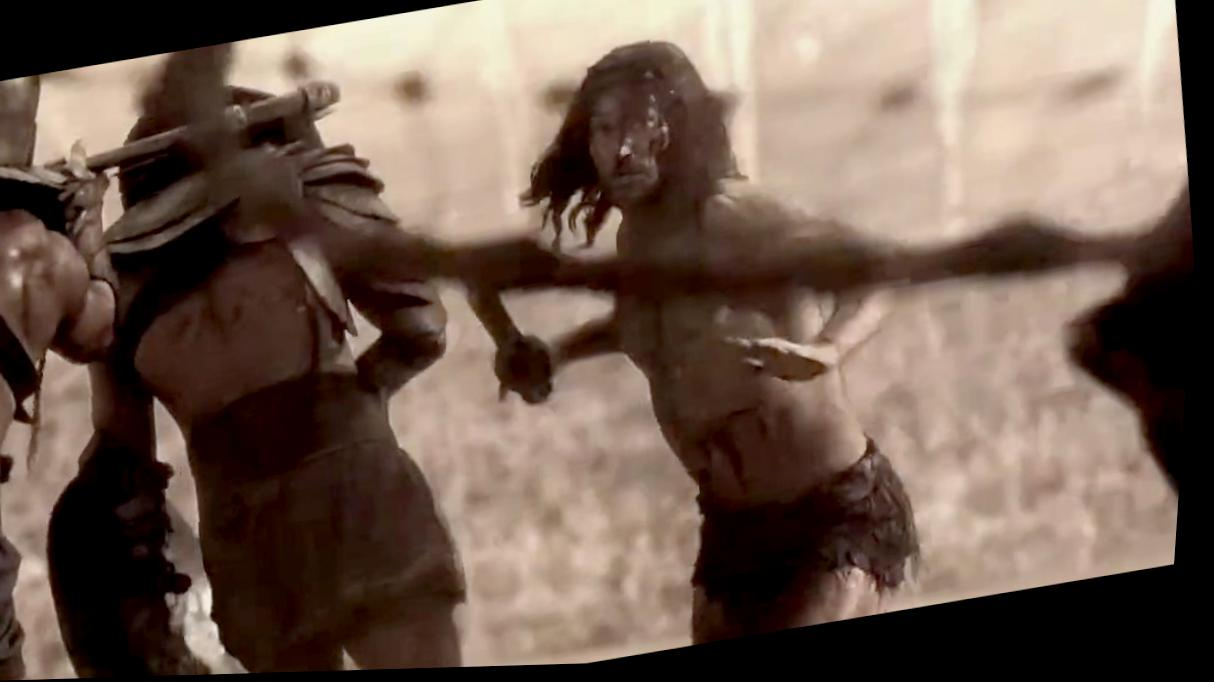Fire: (593, 85, 672, 213)
